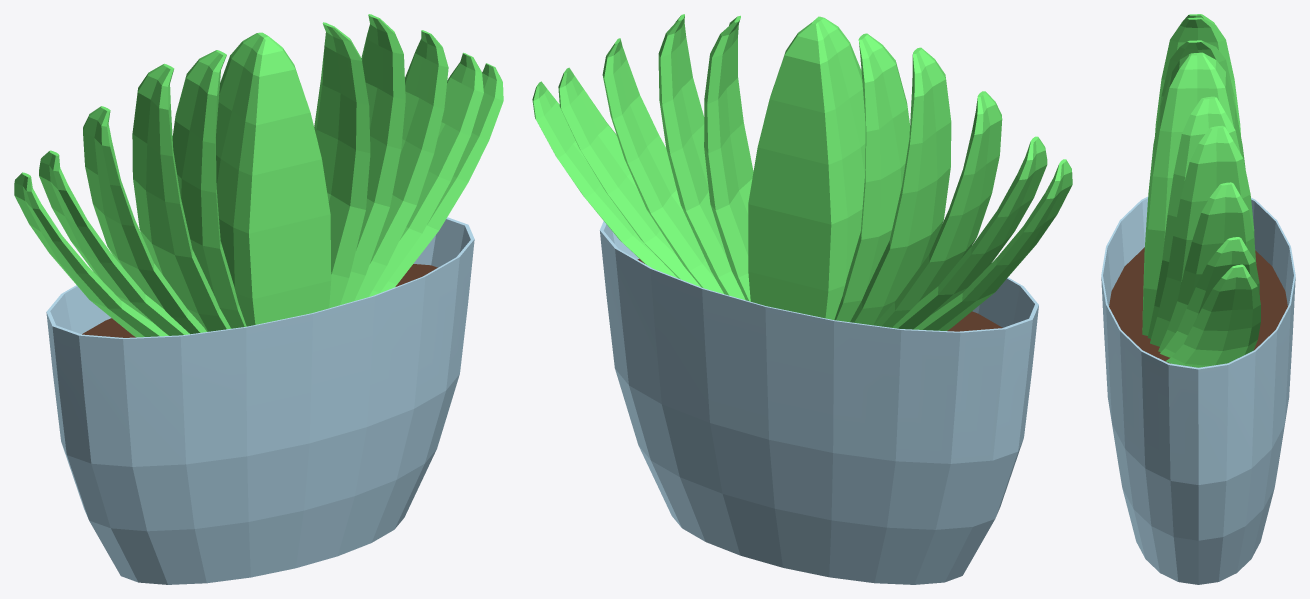
The model's file is greenplant.fbx.
3 renders of one model, left to right at view 1: azimuth 30°, elevation 25°; view 2: azimuth 150°, elevation 25°; view 3: azimuth 270°, elevation 25°, orthographic. The views are drawn at different scales.
Visible parts, largest first — view 1: greenplant; view 2: greenplant; view 3: greenplant.
Part boxes in pixels (<box>): greenplant: <box>14,14,503,584</box>; greenplant: <box>532,14,1072,584</box>; greenplant: <box>1101,14,1295,584</box>.
Bounding box in the file's own units: 0.1456 × 0.0534 × 0.1421.
Materials: 1 (1 with a texture image).
